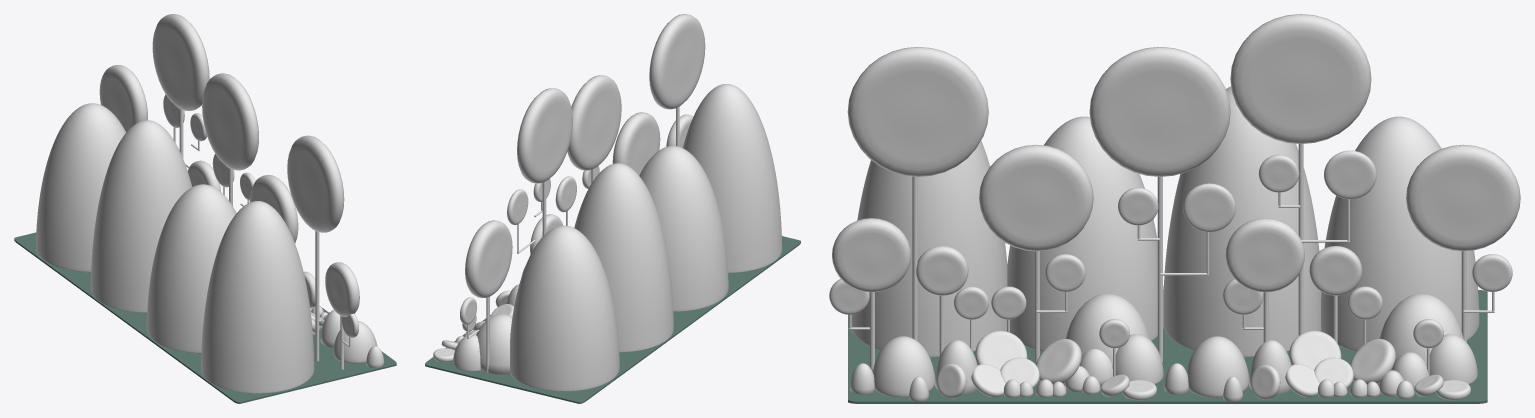
File: Level3.fbx
3 renders of one model, left to right at view 1: azimuth 30°, elevation 25°; view 2: azimuth 150°, elevation 25°; view 3: azimuth 270°, elevation 25°, orthographic. The views are drawn at different scales.
Visible parts, largest first — view 1: Sphere.017, Sphere.032, Sphere.033, Sphere.018, Plane.001, HeadLolly.007, HeadLolly.002, HeadLolly.026, HeadLolly.029, HeadLolly, HeadLolly.010, Sphere.015 (+7 smaller); view 2: Sphere.033, Sphere.032, Sphere.017, Sphere.018, HeadLolly.002, HeadLolly.026, HeadLolly.007, Plane.001, HeadLolly.029, HeadLolly.010, Sphere.034, Sphere.035 (+5 smaller); view 3: Sphere.032, Sphere.033, Sphere.017, Sphere.018, HeadLolly.002, HeadLolly.007, HeadLolly.026, HeadLolly.029, HeadLolly.010, Plane.001, HeadLolly.019, HeadLolly (+41 smaller).
Boxes of the visible parts, bbox=[...] form: Sphere.017: bbox=[201, 201, 314, 393]; Sphere.032: bbox=[90, 120, 191, 312]; Sphere.033: bbox=[36, 103, 125, 272]; Sphere.018: bbox=[146, 184, 236, 353]; Plane.001: bbox=[14, 232, 396, 403]; HeadLolly.007: bbox=[202, 73, 258, 170]; HeadLolly.002: bbox=[287, 135, 344, 232]; HeadLolly.026: bbox=[152, 14, 209, 110]; HeadLolly.029: bbox=[99, 65, 147, 132]; HeadLolly: bbox=[325, 262, 359, 316]; HeadLolly.010: bbox=[250, 175, 298, 242]; Sphere.015: bbox=[333, 321, 377, 363]; Sphere.033: bbox=[510, 225, 619, 391]; Sphere.032: bbox=[574, 163, 673, 352]; Sphere.017: bbox=[683, 84, 782, 272]; Sphere.018: bbox=[639, 146, 728, 311]; HeadLolly.002: bbox=[649, 14, 705, 109]; HeadLolly.026: bbox=[517, 88, 572, 183]; HeadLolly.007: bbox=[567, 75, 621, 170]; Plane.001: bbox=[425, 236, 800, 403]; HeadLolly.029: bbox=[465, 220, 512, 297]; HeadLolly.010: bbox=[612, 112, 660, 175]; Sphere.034: bbox=[476, 314, 512, 374]; Sphere.035: bbox=[453, 334, 480, 371]; Sphere.032: bbox=[1163, 86, 1321, 357]; Sphere.033: bbox=[1321, 116, 1479, 351]; Sphere.017: bbox=[851, 140, 1007, 357]; Sphere.018: bbox=[1007, 116, 1163, 351]; HeadLolly.002: bbox=[847, 47, 988, 176]; HeadLolly.007: bbox=[1089, 47, 1230, 176]; HeadLolly.026: bbox=[1230, 14, 1371, 143]; HeadLolly.029: bbox=[1406, 144, 1520, 251]; HeadLolly.010: bbox=[979, 144, 1093, 251]; Plane.001: bbox=[848, 290, 1487, 403]; HeadLolly.019: bbox=[1225, 218, 1304, 292]; HeadLolly: bbox=[832, 218, 911, 292].
Size of the model in its own units: 30159 by 43701 by 78369.
